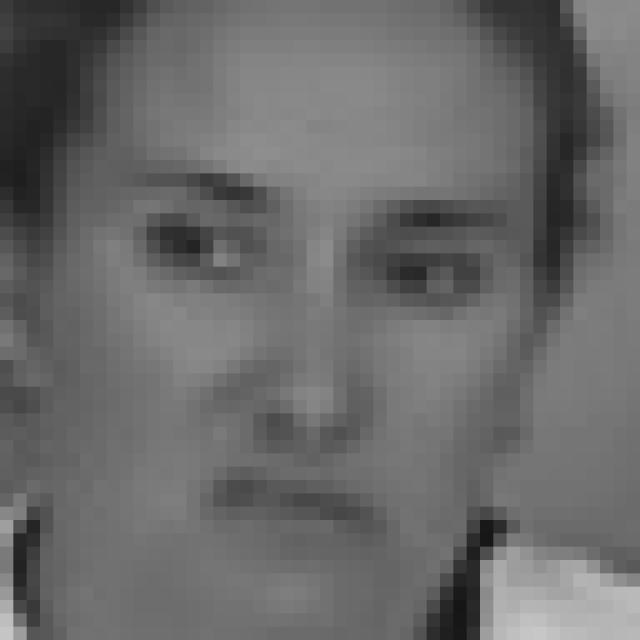disgust: (118, 163, 521, 582)
